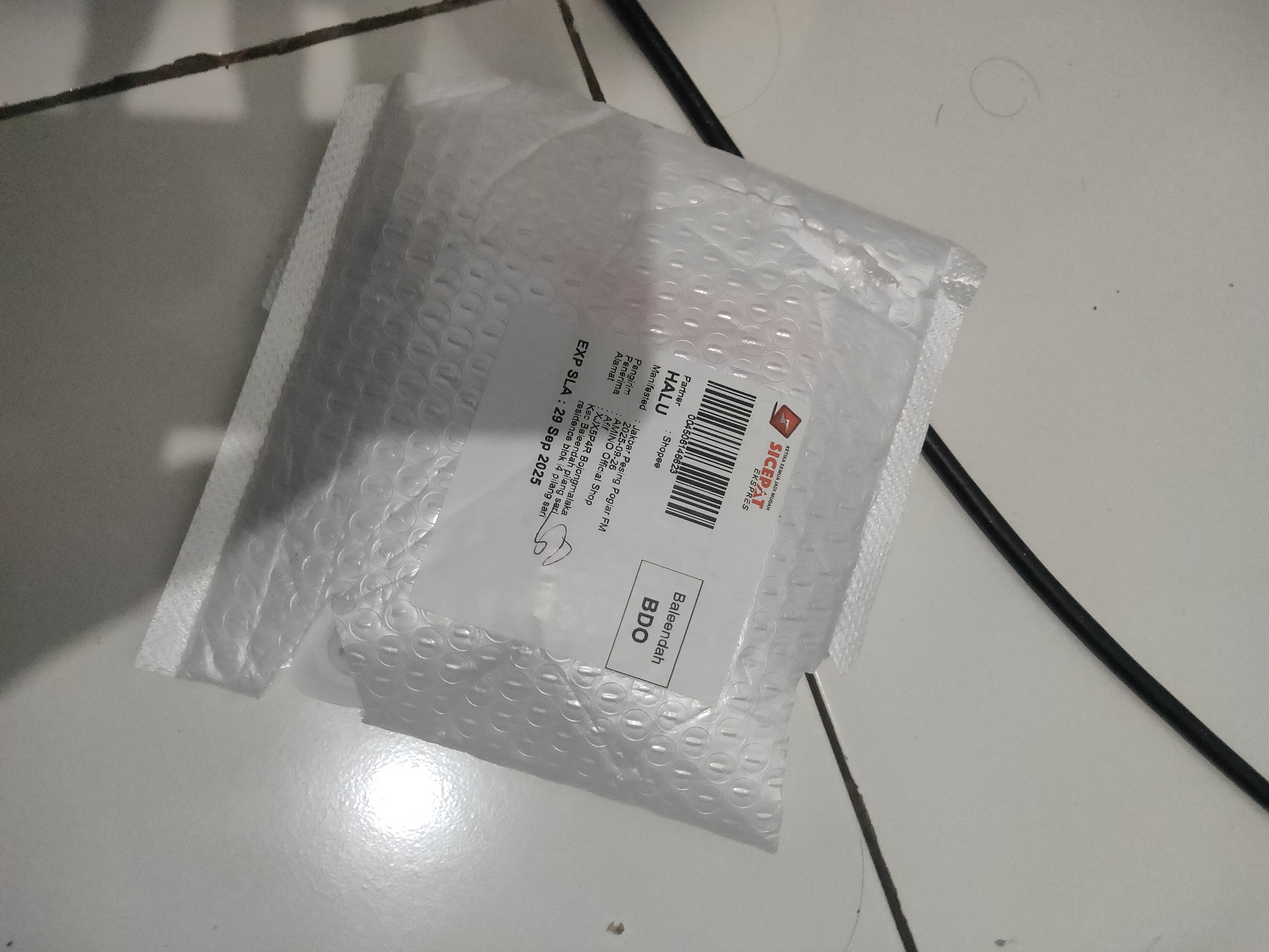damaged package: (698, 177, 900, 321), (258, 596, 374, 722), (781, 650, 850, 846)
undamaged: (122, 44, 1004, 871)
